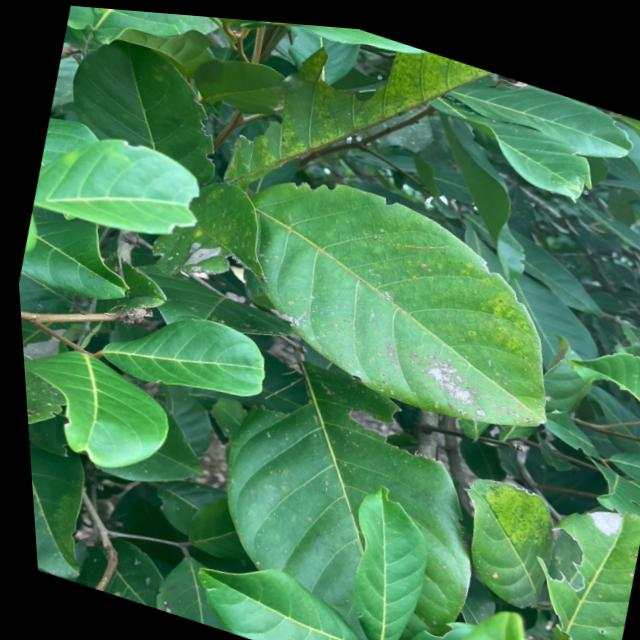Algal Leaf Spot: (18, 350, 56, 419), (24, 464, 53, 509)
